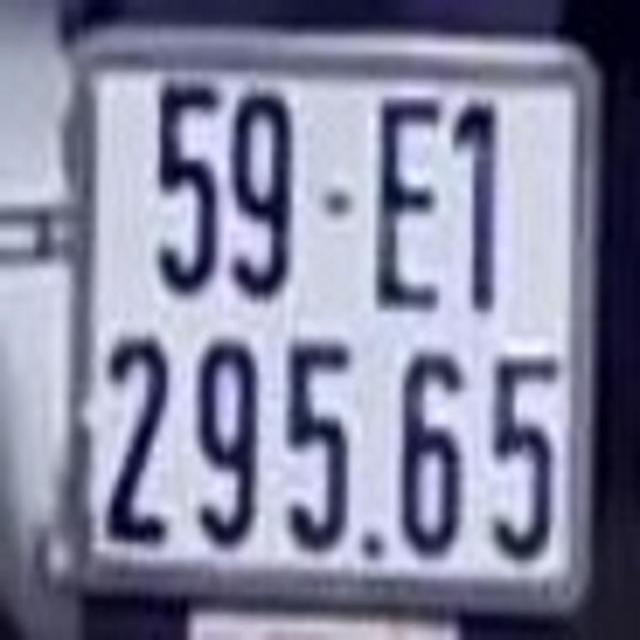1: (453, 99, 501, 312)
2: (105, 338, 170, 545)
5: (493, 355, 563, 567), (283, 330, 345, 553), (160, 85, 218, 292)
6: (400, 350, 462, 558)
9: (193, 338, 258, 552), (234, 94, 293, 292)
E: (379, 100, 445, 308)
